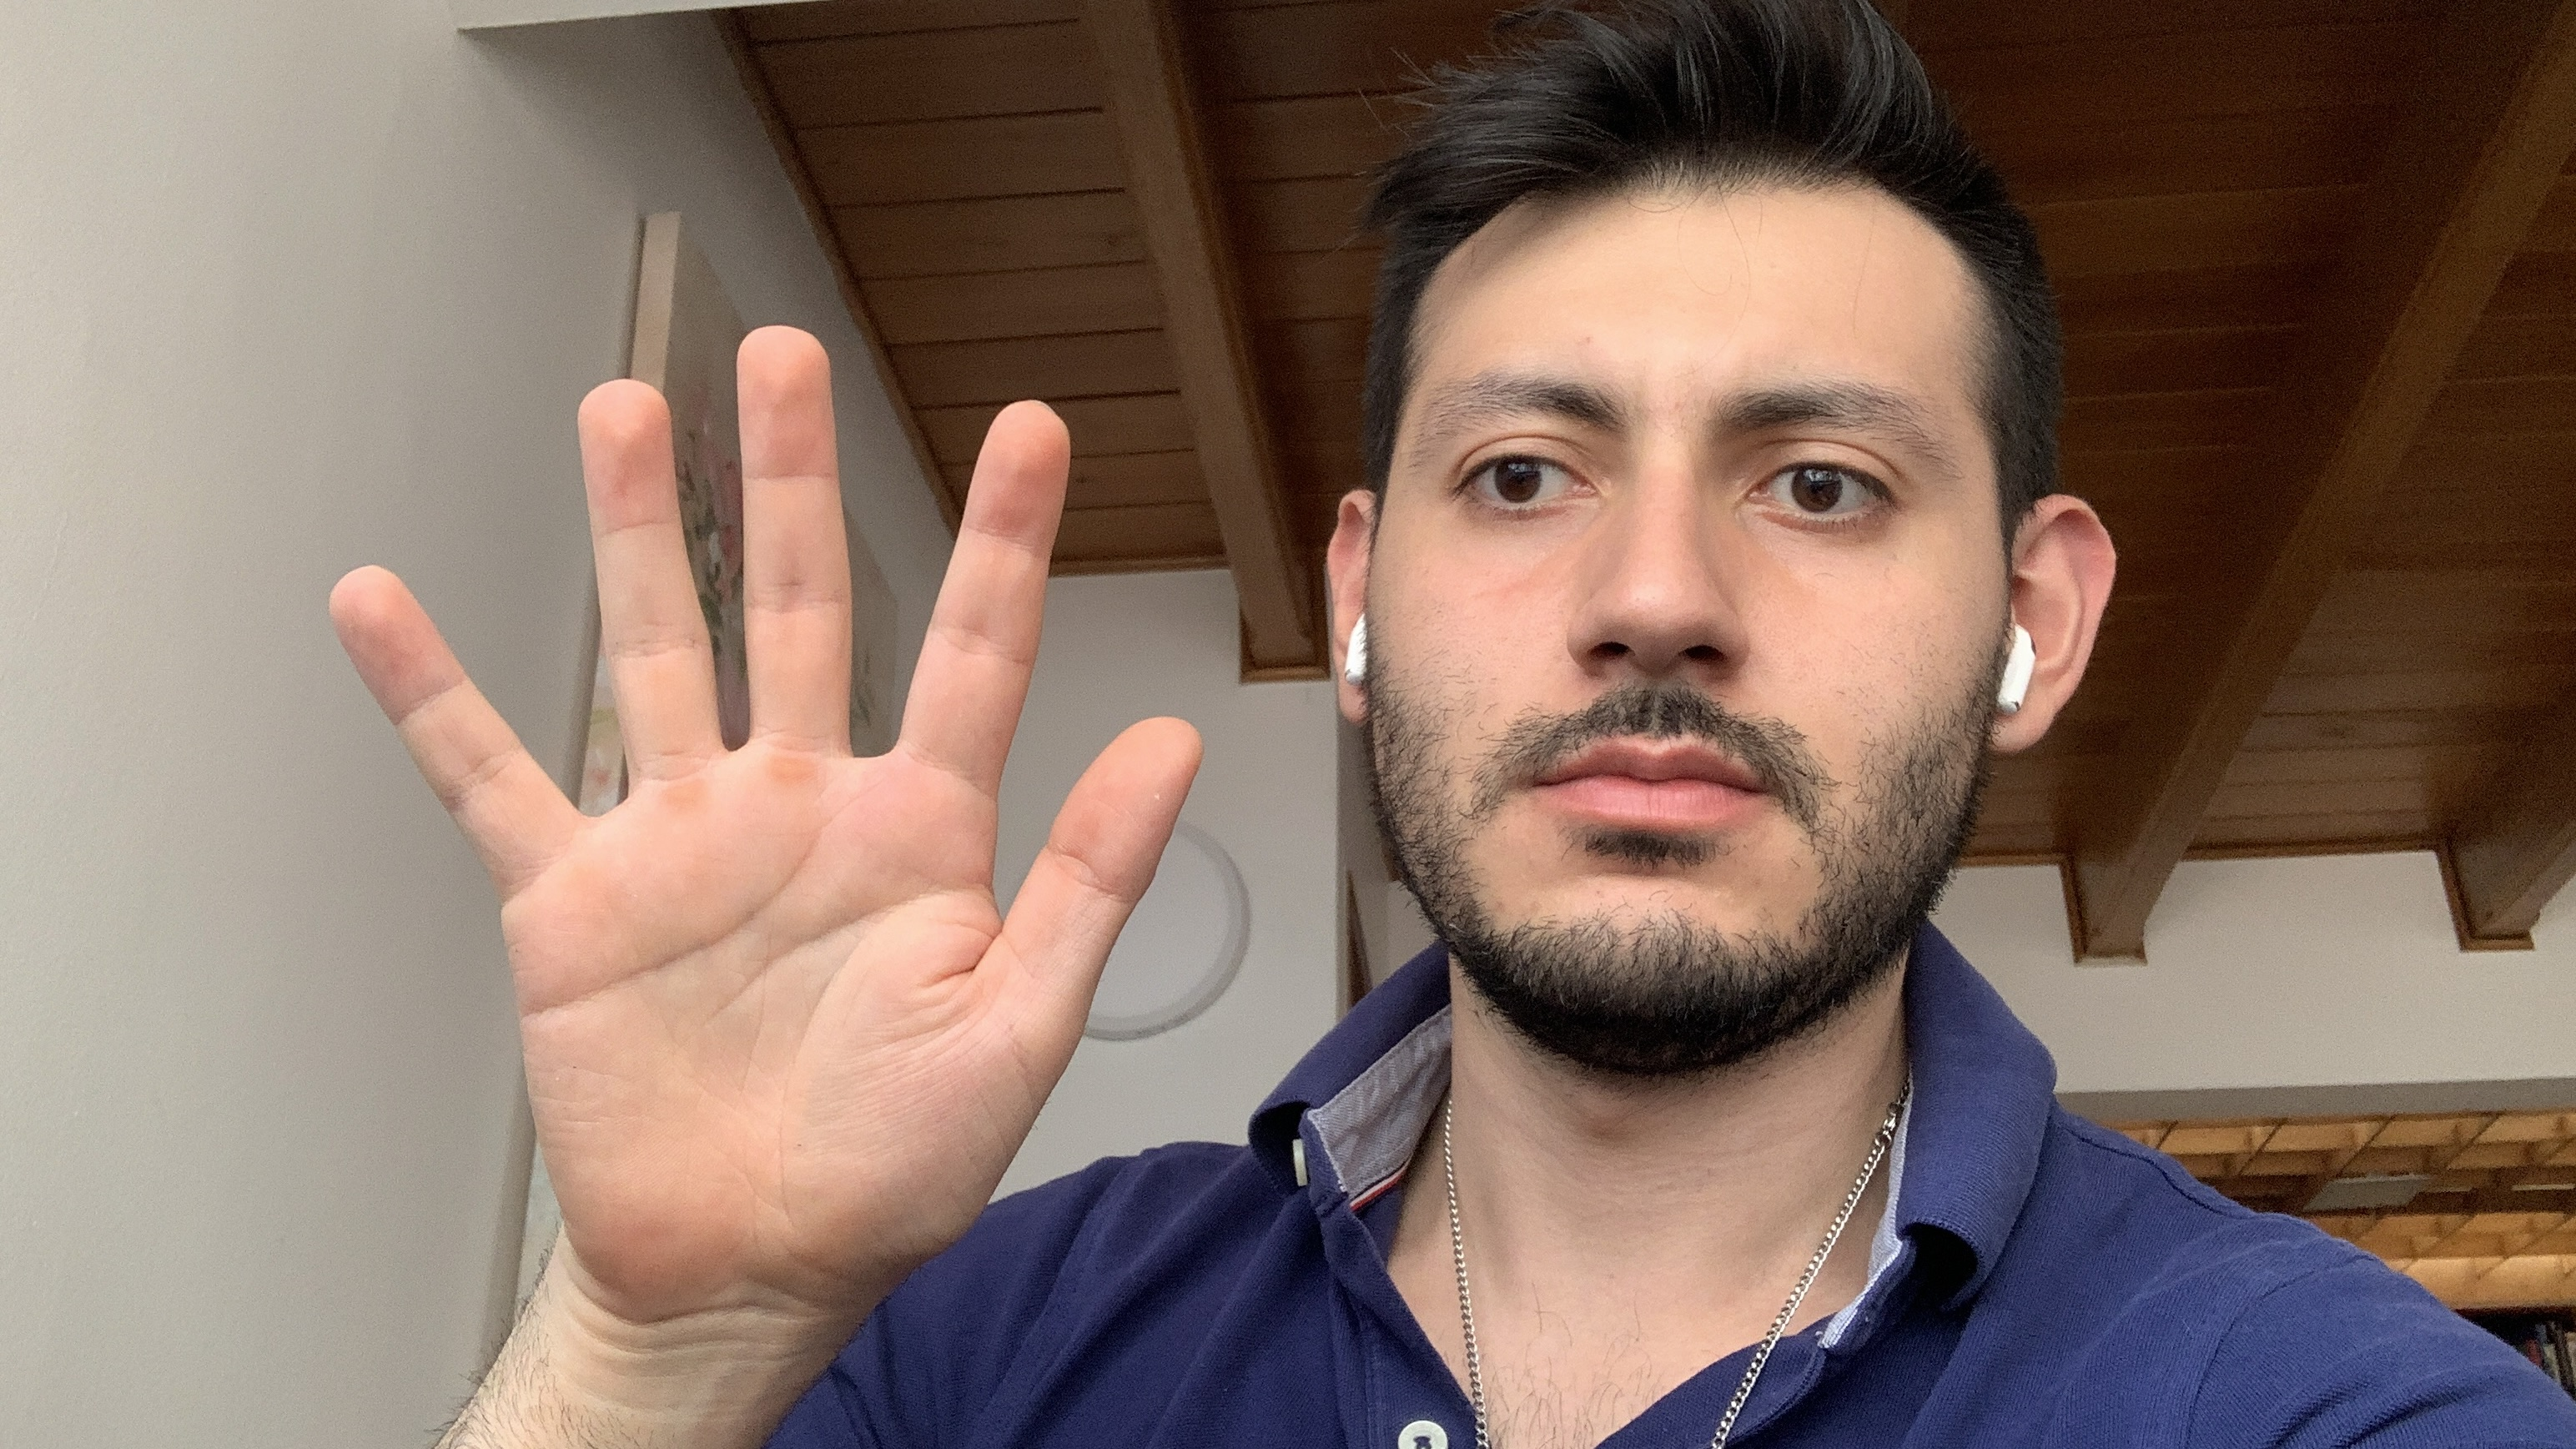Hello: (320, 310, 1224, 1352)
